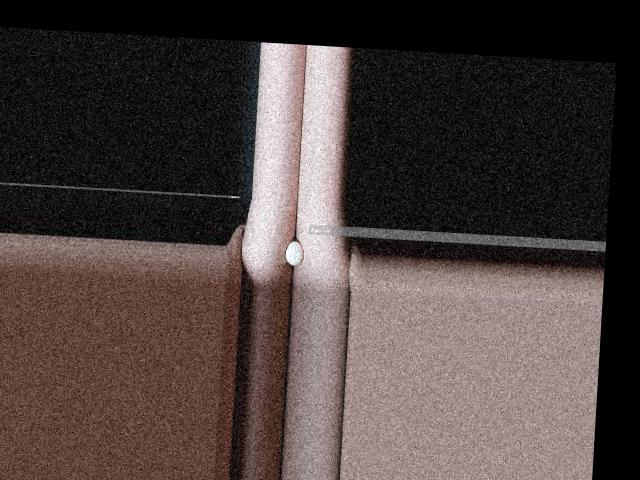egg: (285, 240, 304, 265)
